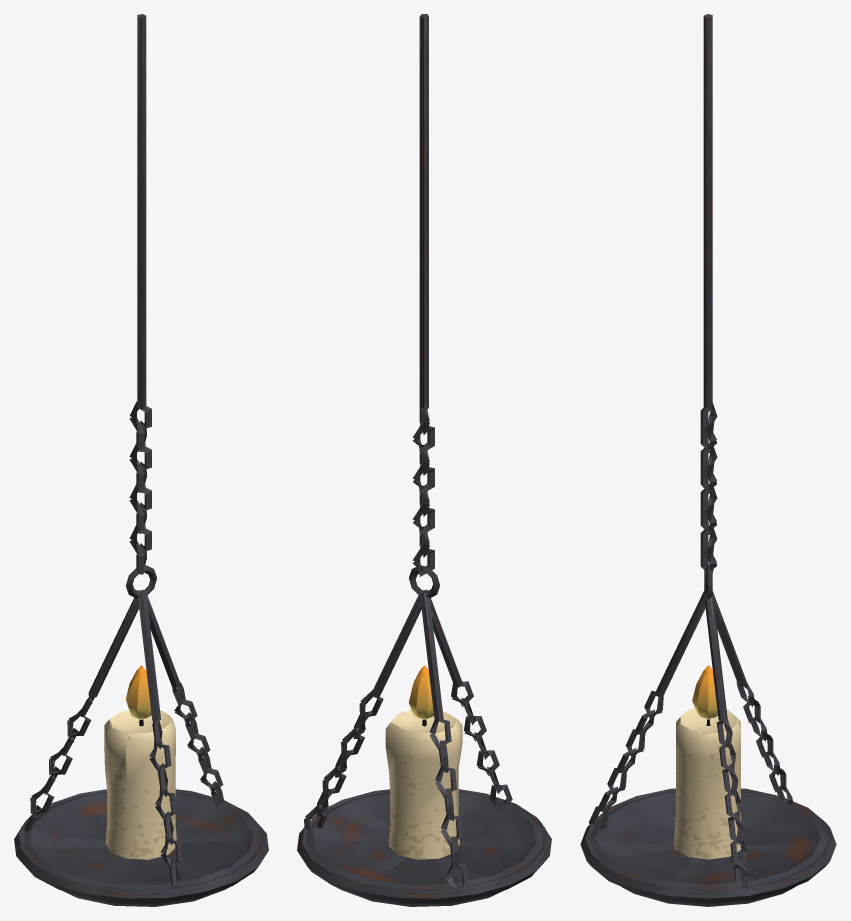
File: Lamp_Candle.fbx
3 renders of one model, left to right at view 1: azimuth 30°, elevation 25°; view 2: azimuth 150°, elevation 25°; view 3: azimuth 270°, elevation 25°, orthographic.
Visible parts, largest first — view 1: Lamp_Candle; view 2: Lamp_Candle; view 3: Lamp_Candle.
Part boxes in pixels (<box>): Lamp_Candle: <box>14,14,268,906</box>; Lamp_Candle: <box>297,14,551,906</box>; Lamp_Candle: <box>580,14,836,906</box>.
Bounding box in the file's own units: 0.636 × 2.32 × 0.636.
Materials: 2 (2 with a texture image).
